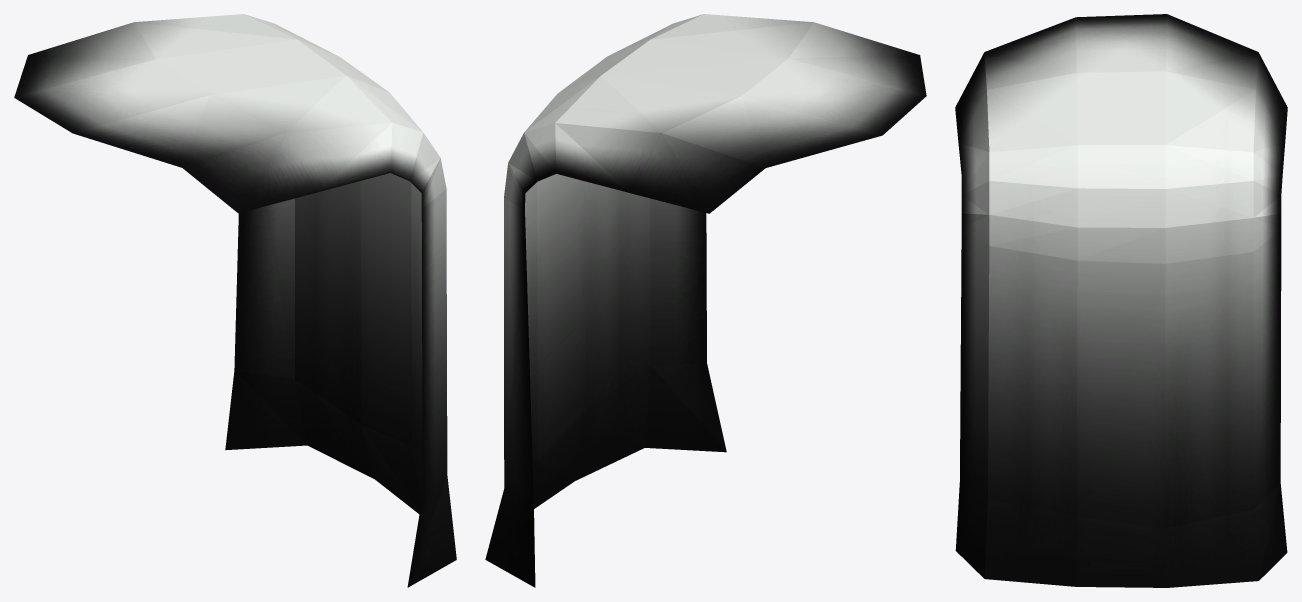
File: waterfall_short_01.fbx
3 renders of one model, left to right at view 1: azimuth 30°, elevation 25°; view 2: azimuth 150°, elevation 25°; view 3: azimuth 270°, elevation 25°, orthographic. The views are drawn at different scales.
Parts seen in each view (by area): view 1: obj0.189; view 2: obj0.189; view 3: obj0.189.
Boxes of the visible parts, x1,y1,x2,y2 form: obj0.189: (14, 14, 456, 587); obj0.189: (485, 14, 926, 587); obj0.189: (955, 14, 1287, 587).
Bounding box in the file's own units: 7.3 × 9.18 × 6.56.
